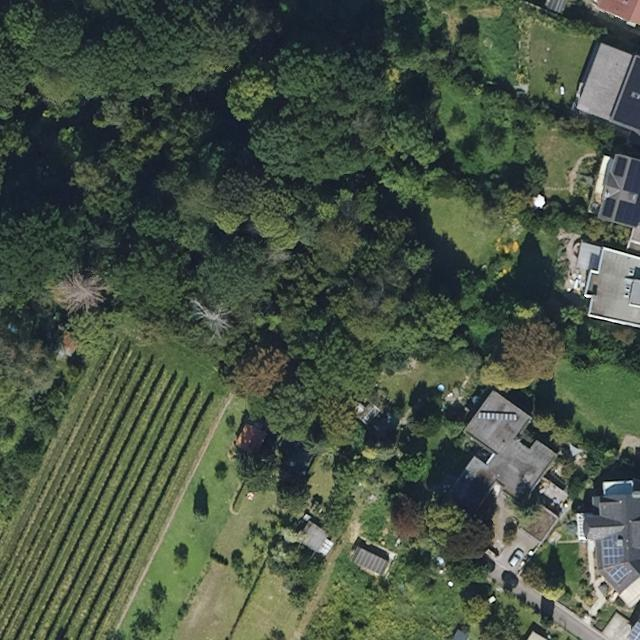PV: (614, 54, 639, 131), (614, 158, 639, 227), (602, 563, 636, 588), (599, 537, 626, 568), (601, 195, 618, 220), (612, 154, 629, 177), (625, 618, 639, 639)
